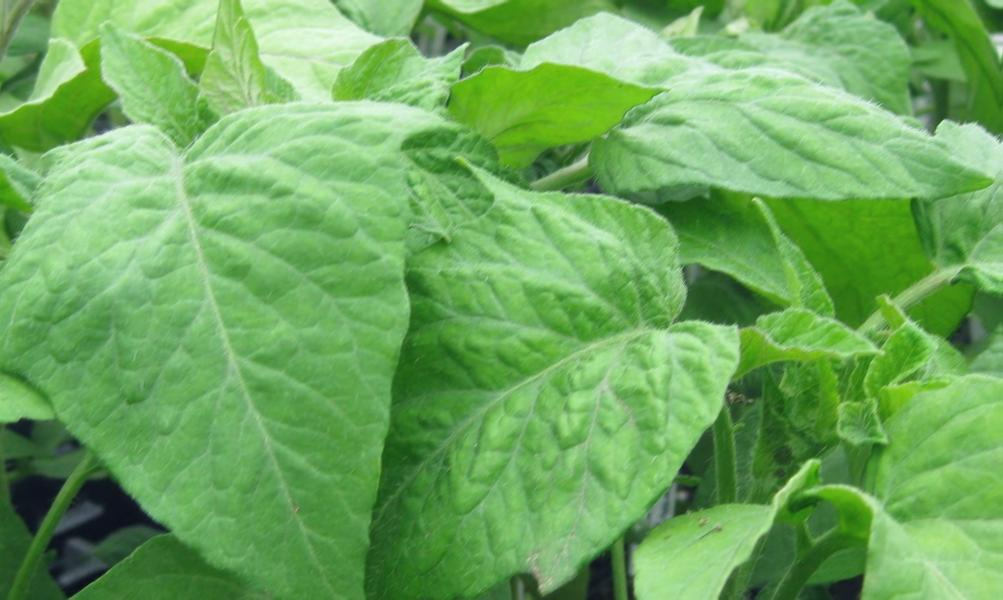Tomato leaf: (0, 54, 418, 600), (540, 0, 986, 204)
